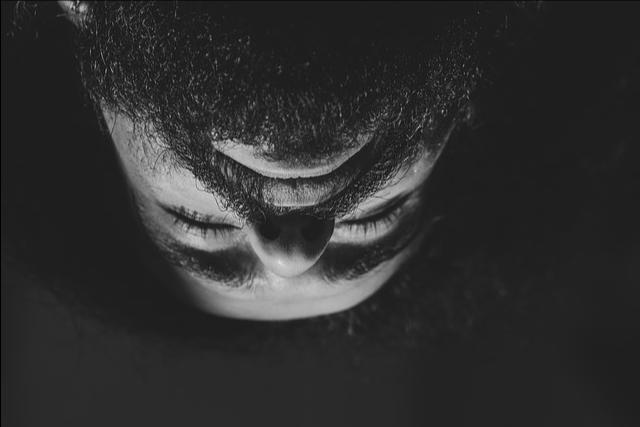Non_Gorille: (45, 4, 549, 427)
